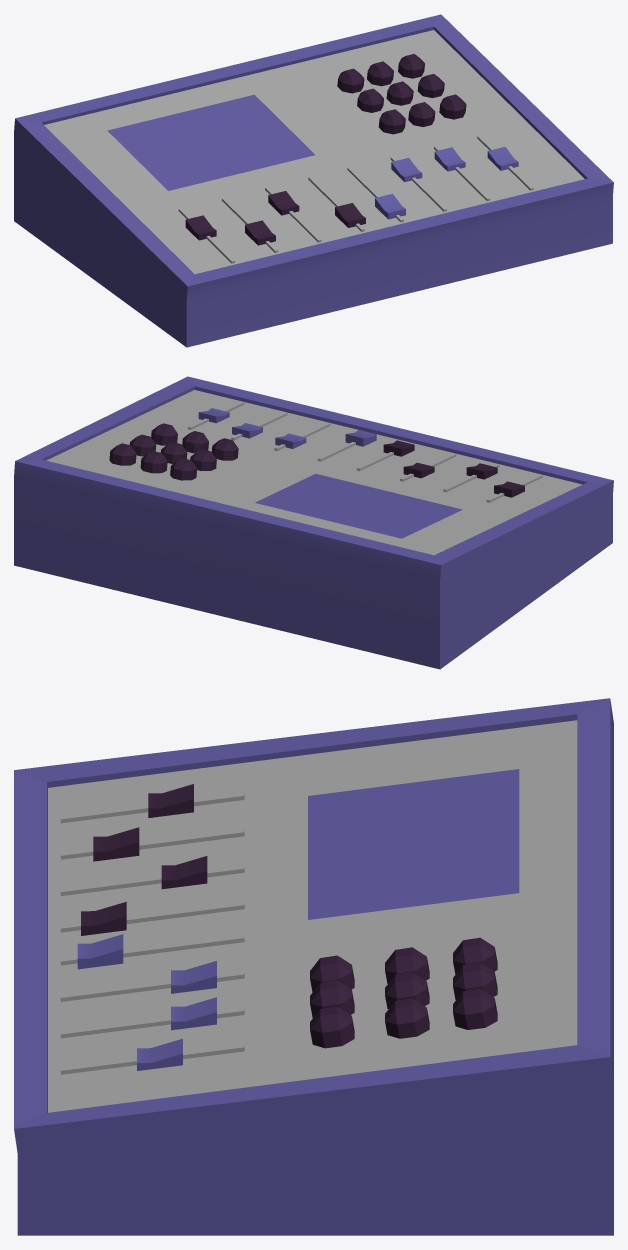
File: Mischpult2.fbx
3 renders of one model, top to bottom at view 1: azimuth 30°, elevation 25°; view 2: azimuth 150°, elevation 25°; view 3: azimuth 270°, elevation 25°, orthographic. The views are drawn at different scales.
Parts seen in each view (by area): view 1: Mischpult1; view 2: Mischpult1; view 3: Mischpult1.
Boxes of the visible parts, bbox=[...] form: Mischpult1: bbox=[14, 14, 613, 347]; Mischpult1: bbox=[14, 376, 613, 669]; Mischpult1: bbox=[14, 698, 613, 1235].
Bounding box in the file's own units: 7.66 × 1.85 × 5.41.
